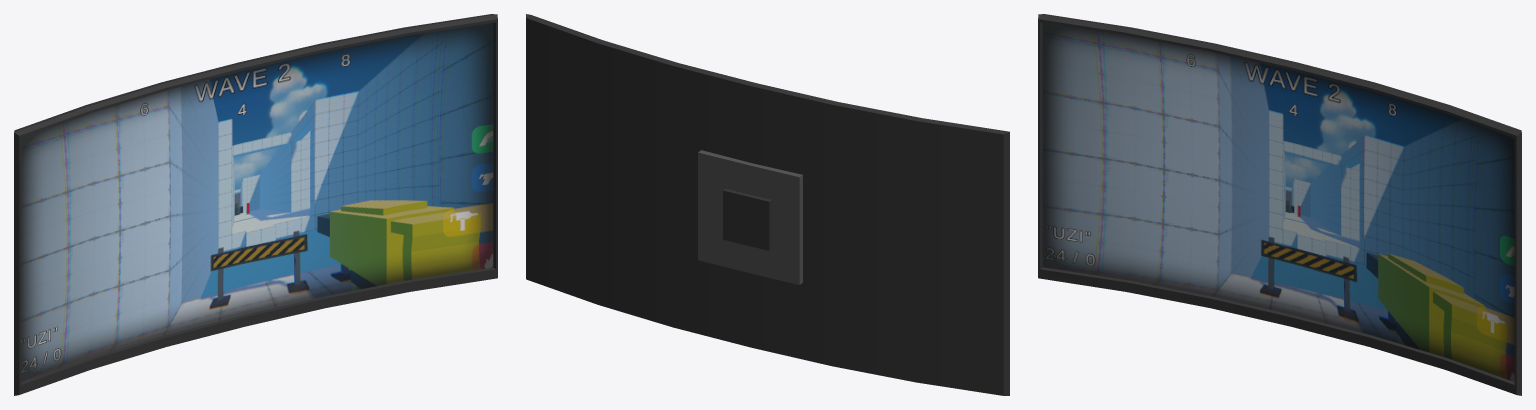
File: TV_3_Curved_Mounted.obj
3 views of the same model, side by side, from view 1: azimuth 30°, elevation 25°; view 2: azimuth 150°, elevation 25°; view 3: azimuth 330°, elevation 25° (orthographic).
Parts seen in each view (by area): view 1: TV_3_Curved_Mounted; view 2: TV_3_Curved_Mounted; view 3: TV_3_Curved_Mounted.
Part boxes in pixels (bbox=[...]): TV_3_Curved_Mounted: bbox=[14, 14, 497, 395]; TV_3_Curved_Mounted: bbox=[526, 14, 1009, 395]; TV_3_Curved_Mounted: bbox=[1038, 14, 1521, 395].
Size of the model in its own units: 1.32 by 0.6888 by 0.1155.
